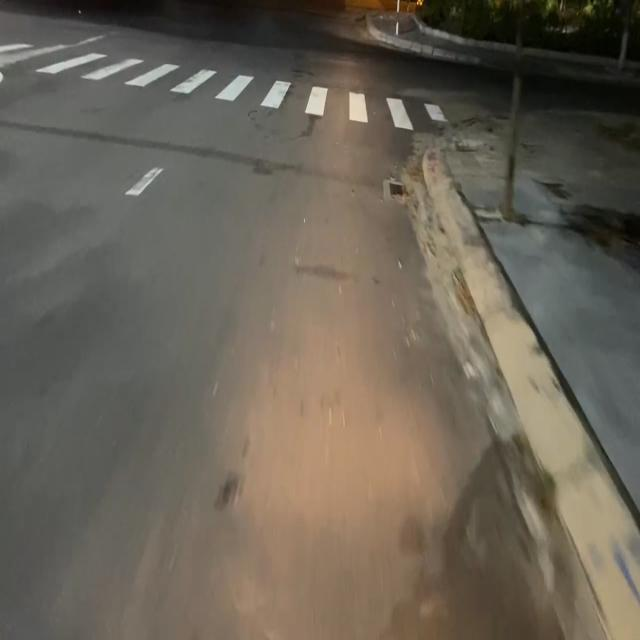walk-crossing: (8, 49, 446, 126)
